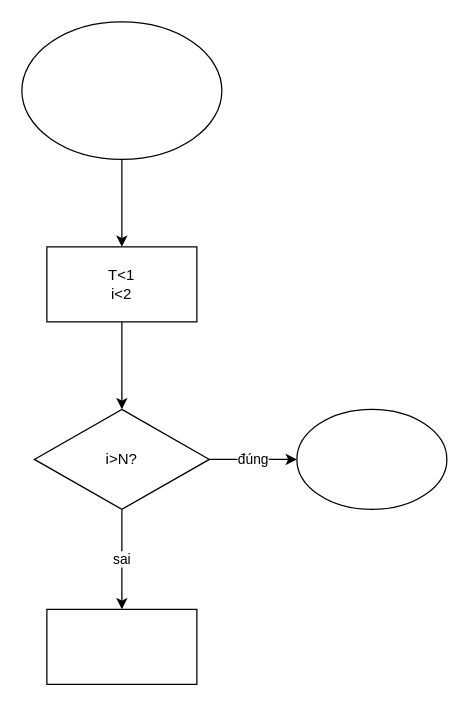
Some shapes in this 469 by 706 pixel diagram are drawn without their labels. The centre of each missing label's shape, as x and y in pixels:
"In T và kết thúc" goes at [371,458].
"Nhập số nguyên dương" goes at [121,90].
